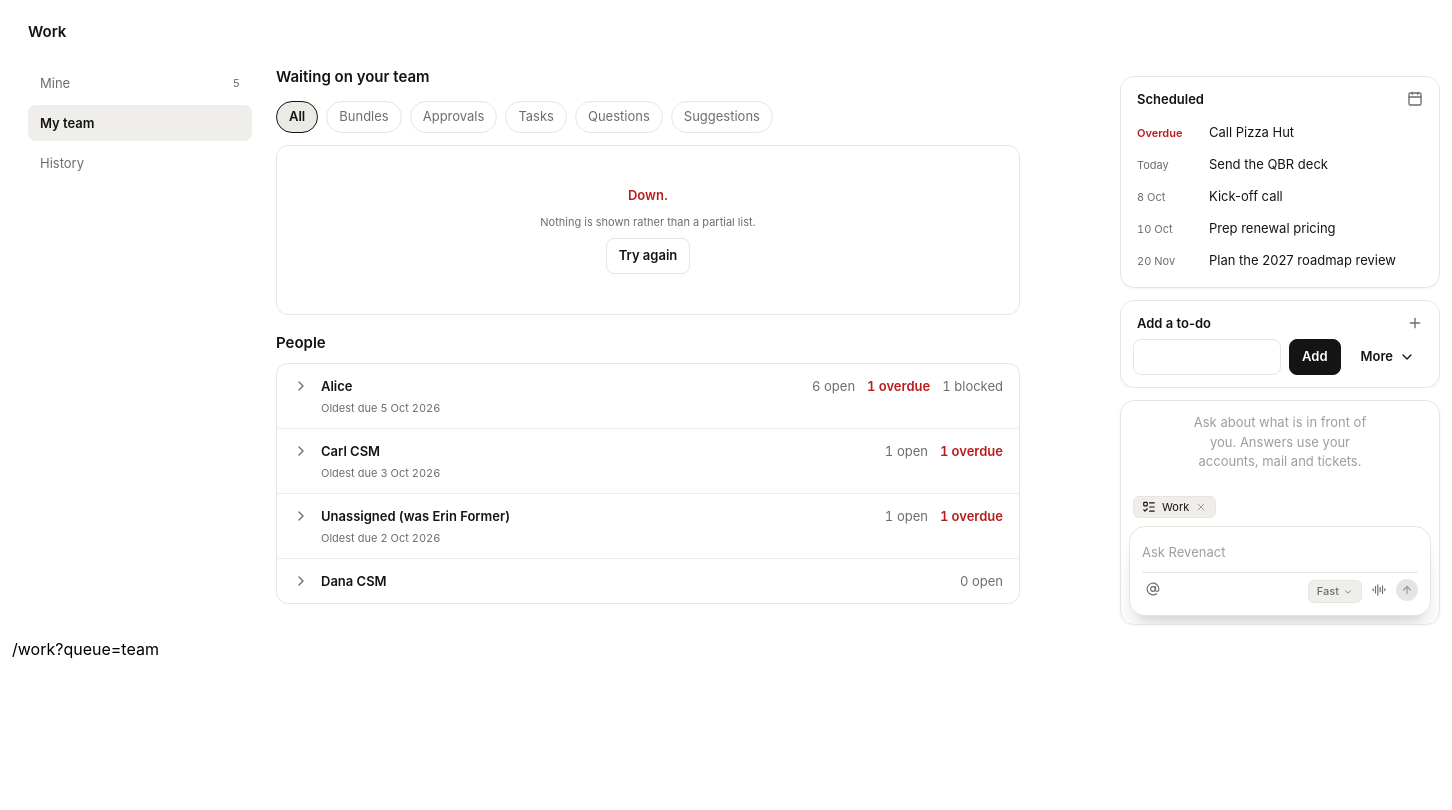
Work inbox: My team people and queues (spec §1.5, §8.1) › shows an empty queue, and Try again after a failed read
Click the button "Try again" at (648, 256), box left=606, top=238, right=690, bottom=274
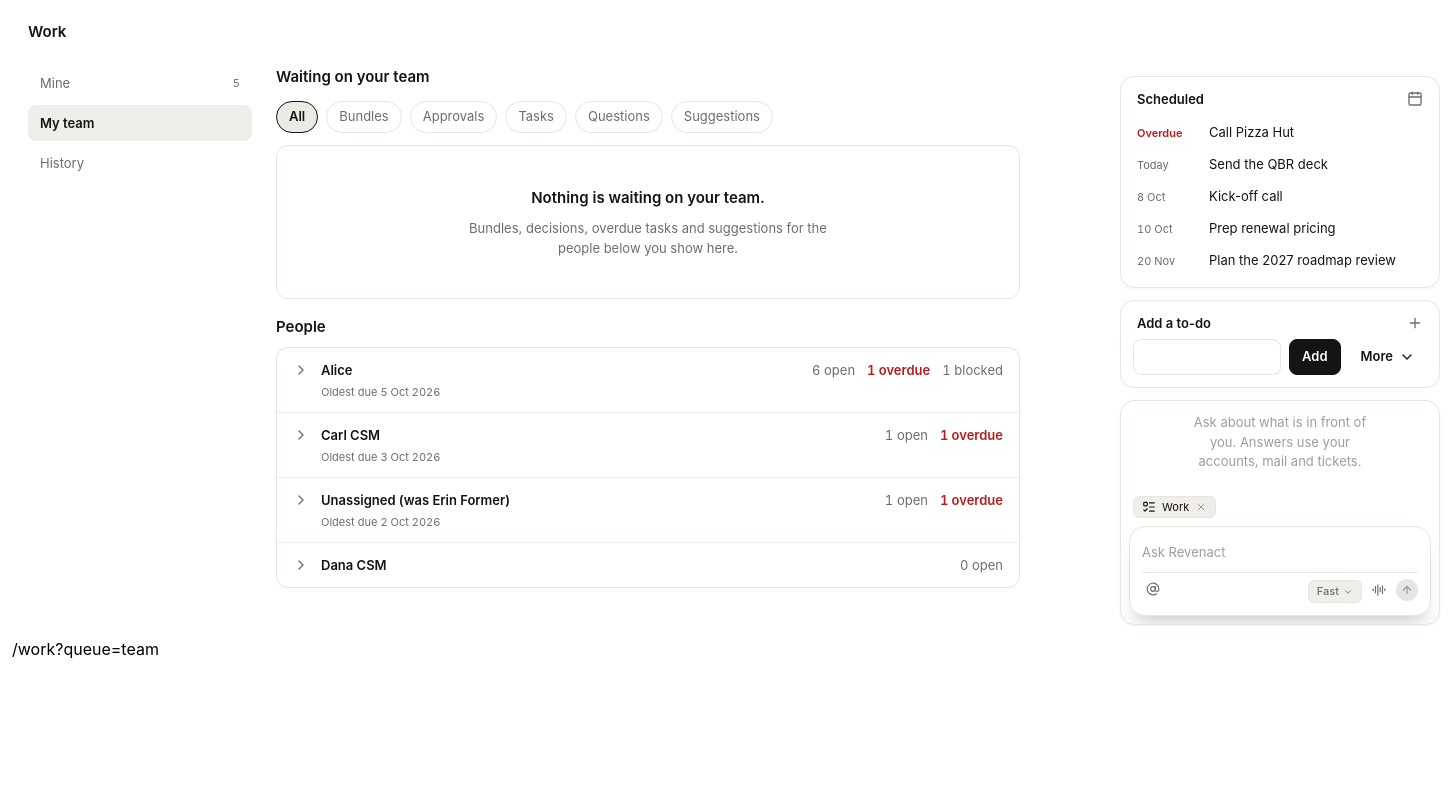
Now the text "Nothing is waiting on your team." is shown, box left=531, top=186, right=765, bottom=210
